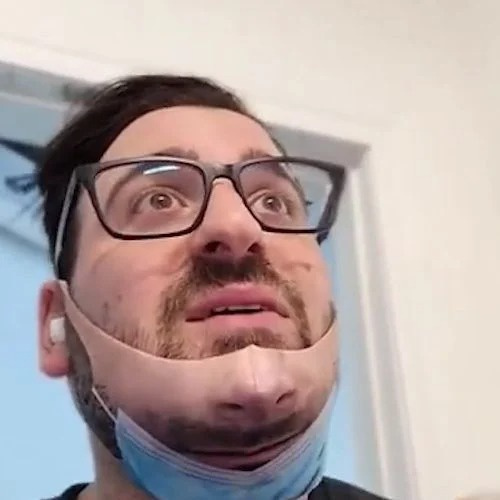with_incorrect_mask: (55, 118, 350, 464)
